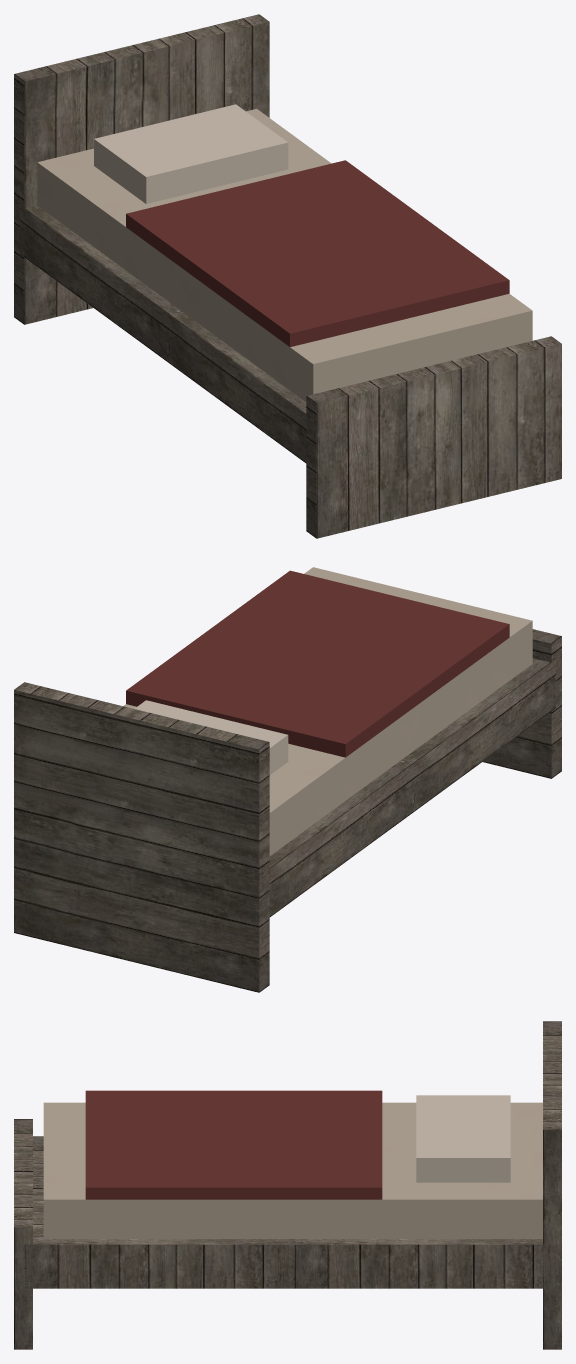
Rendered from bed_wood_01.glb.
3 renders of one model, top to bottom at view 1: azimuth 30°, elevation 25°; view 2: azimuth 150°, elevation 25°; view 3: azimuth 270°, elevation 25°, orthographic. The views are drawn at different scales.
Visible parts, largest first — view 1: bed_wood_01; view 2: bed_wood_01; view 3: bed_wood_01.
Boxes of the visible parts, left/top/right/bottom form: bed_wood_01: left=14, top=14, right=561, bottom=538; bed_wood_01: left=14, top=567, right=561, bottom=992; bed_wood_01: left=14, top=1021, right=561, bottom=1349.
Bounding box in the file's own units: 0.9499 × 0.8999 × 2.03.
Materials: 4 (3 with a texture image).
